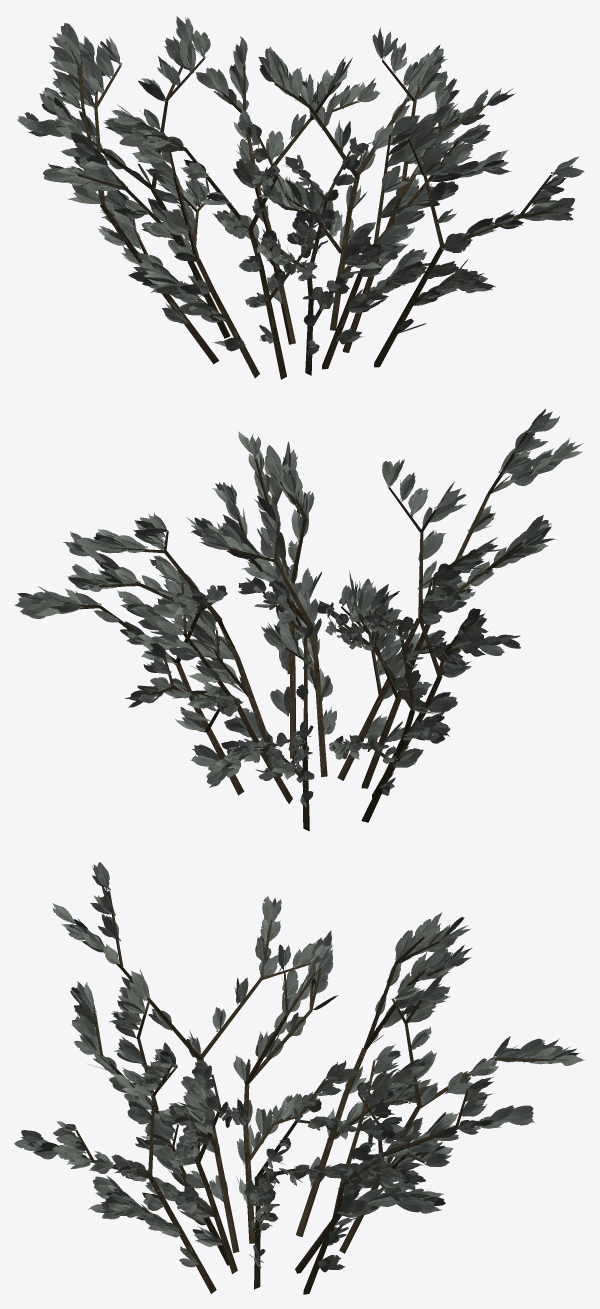
The model's file is sagebrush_grey_v01_LOD1.fbx.
The picture shows the model from 3 angles, top to bottom: view 1: azimuth 30°, elevation 25°; view 2: azimuth 150°, elevation 25°; view 3: azimuth 270°, elevation 25°; orthographic projection. The views are drawn at different scales.
Parts seen in each view (by area): view 1: sagebrush_grey_v01_LOD1; view 2: sagebrush_grey_v01_LOD1; view 3: sagebrush_grey_v01_LOD1.
Boxes of the visible parts, bbox=[...] form: sagebrush_grey_v01_LOD1: bbox=[17, 16, 584, 379]; sagebrush_grey_v01_LOD1: bbox=[14, 409, 583, 831]; sagebrush_grey_v01_LOD1: bbox=[14, 862, 585, 1294].
Bounding box in the file's own units: 75.98 × 54.86 × 83.14.
Materials: 2 (2 with a texture image).
